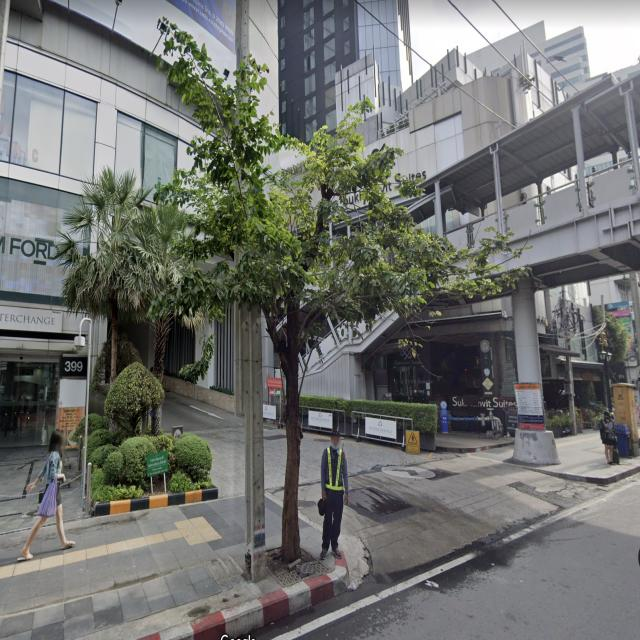tree: (131, 12, 491, 579), (110, 192, 218, 450), (61, 148, 130, 520)
